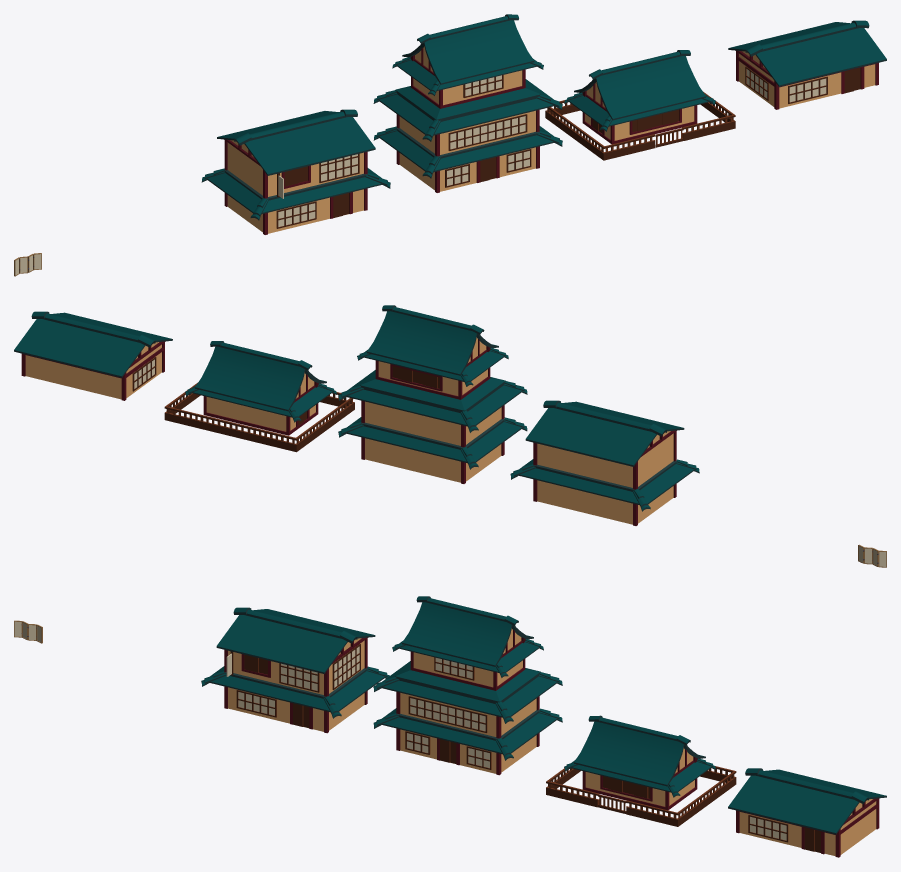
Rendered from semana_7_exemplos.fbx.
The picture shows the model from 3 angles, top to bottom: view 1: azimuth 30°, elevation 25°; view 2: azimuth 150°, elevation 25°; view 3: azimuth 330°, elevation 25°; orthographic projection.
Parts seen in each view (by area): view 1: casa_madeira_exemplo_016, casa_madeira_exemplo_010, casa_madeira_exemplo_015, casa_madeira_exemplo_014; view 2: casa_madeira_exemplo_016, casa_madeira_exemplo_010, casa_madeira_exemplo_015, casa_madeira_exemplo_014; view 3: casa_madeira_exemplo_016, casa_madeira_exemplo_010, casa_madeira_exemplo_015, casa_madeira_exemplo_014, casa_madeira_exemplo_003.
Boxes of the visible parts, bbox=[...] form: casa_madeira_exemplo_016: bbox=[373, 14, 562, 192]; casa_madeira_exemplo_010: bbox=[201, 109, 390, 234]; casa_madeira_exemplo_015: bbox=[545, 50, 735, 160]; casa_madeira_exemplo_014: bbox=[728, 20, 886, 109]; casa_madeira_exemplo_016: bbox=[338, 305, 527, 483]; casa_madeira_exemplo_010: bbox=[510, 400, 699, 525]; casa_madeira_exemplo_015: bbox=[164, 341, 354, 452]; casa_madeira_exemplo_014: bbox=[14, 311, 172, 400]; casa_madeira_exemplo_016: bbox=[373, 596, 562, 775]; casa_madeira_exemplo_010: bbox=[201, 607, 389, 733]; casa_madeira_exemplo_015: bbox=[546, 715, 736, 826]; casa_madeira_exemplo_014: bbox=[728, 768, 886, 857]; casa_madeira_exemplo_003: bbox=[332, 644, 360, 689].
Size of the model in its own units: 11100 by 1763 by 1314.
